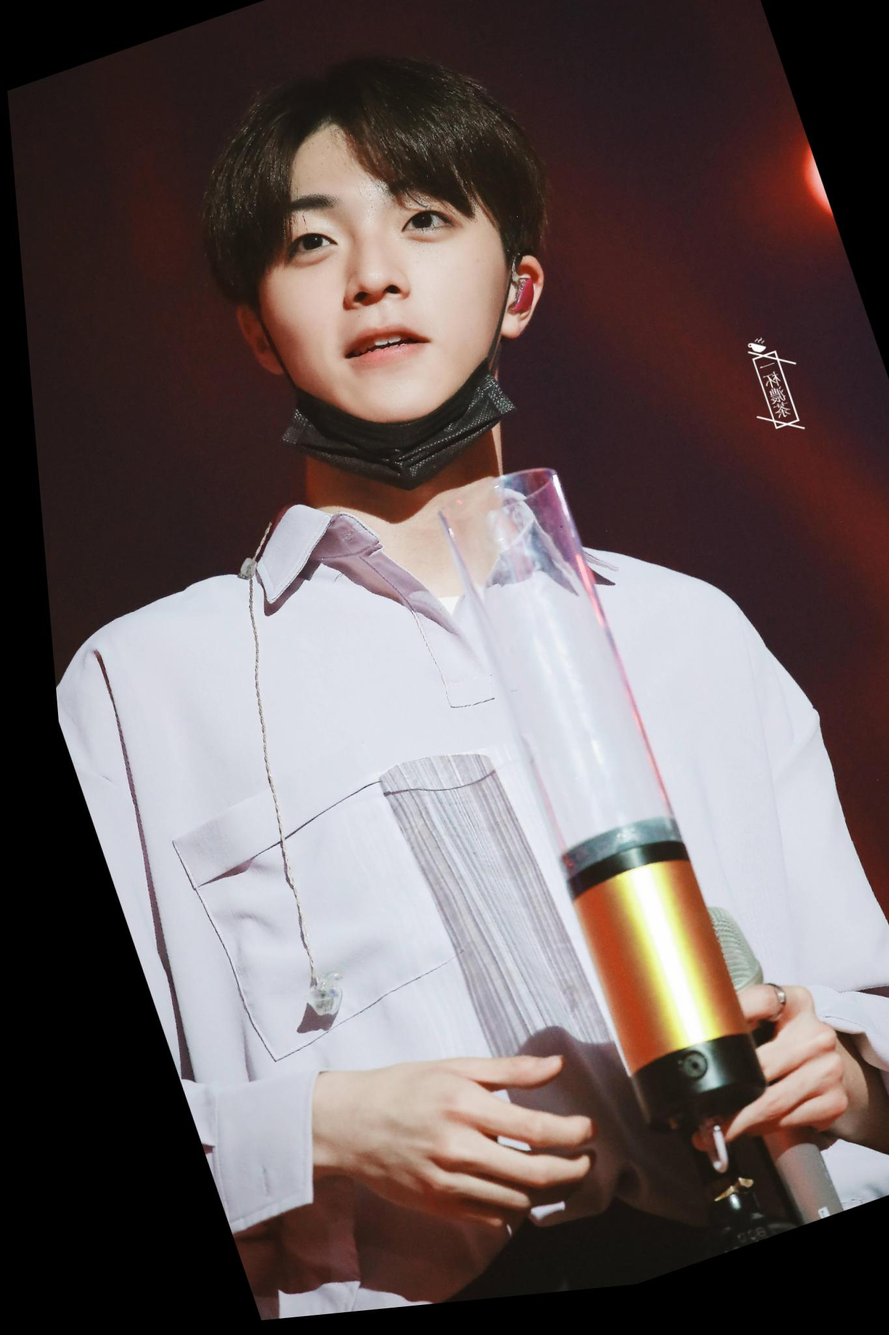WRONG: (205, 108, 546, 490)
